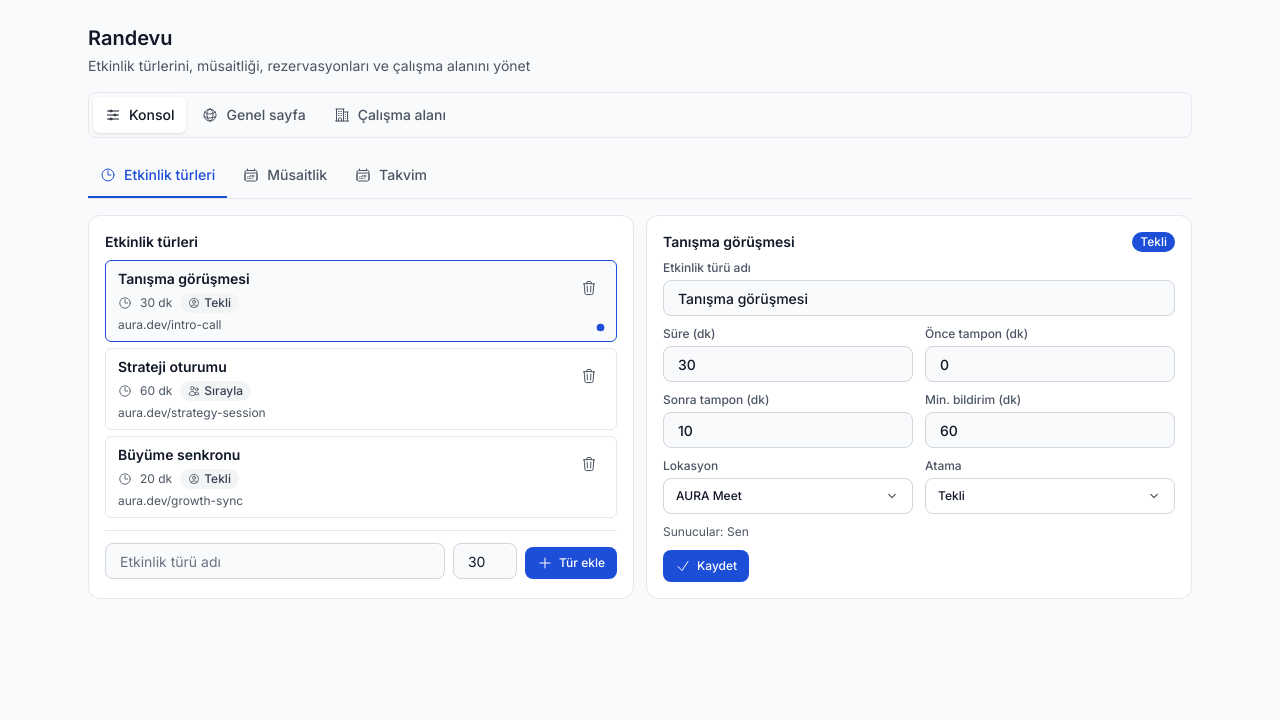
AppointmentsPage › workspace surface lists desks
The width and height of the screenshot is (1280, 720).
Click the tab "Çalışma alanı".
click(390, 115)  # box [322,97,458,133]
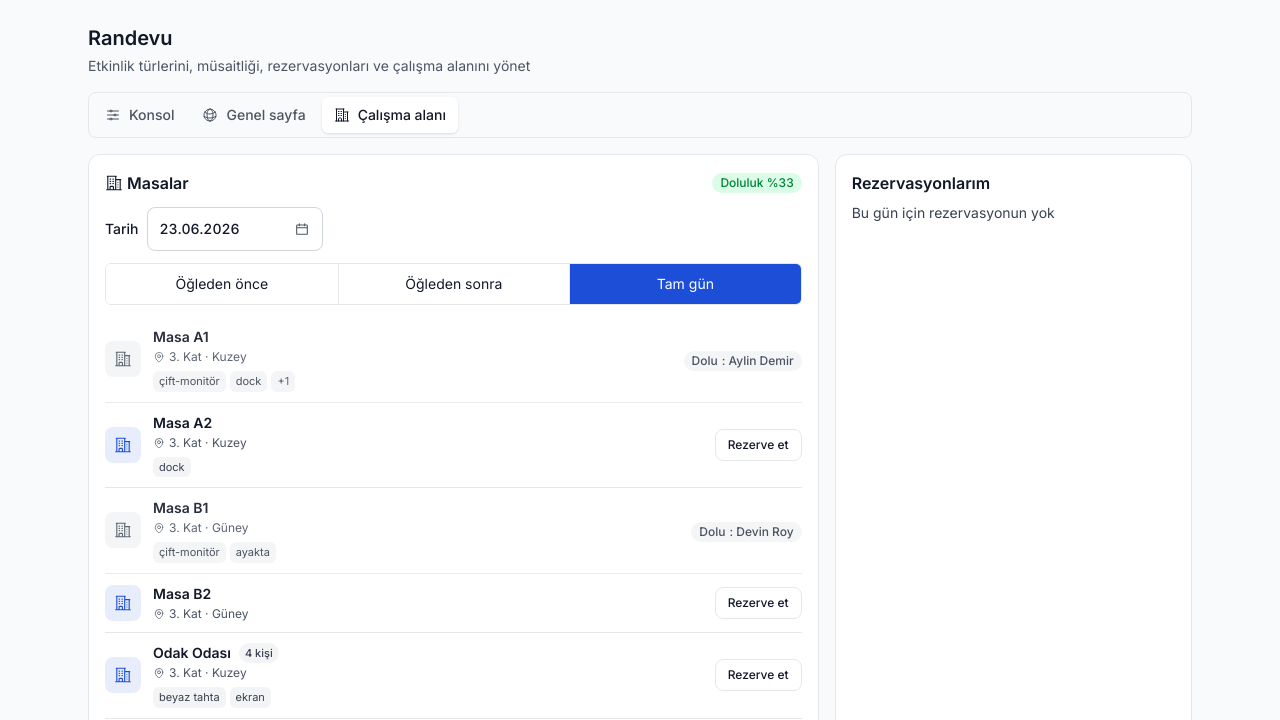
Expected: the text "Masa A1" is shown, [153,327,209,347]
